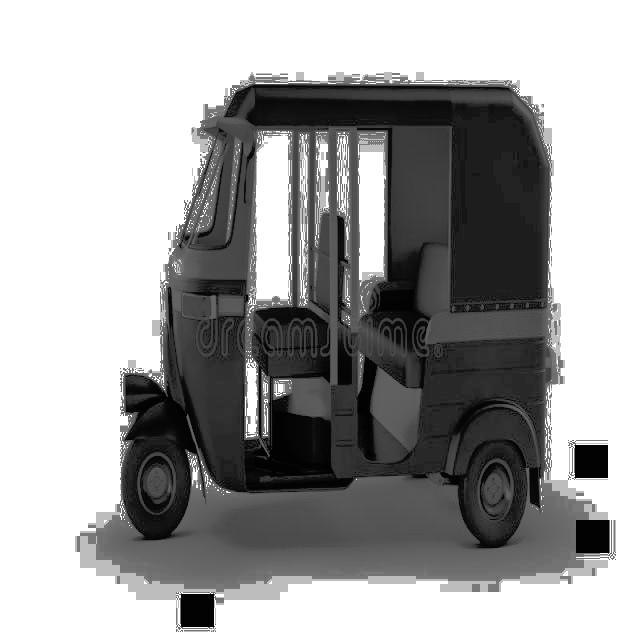Auto-Rickshaw: (117, 79, 555, 557)
